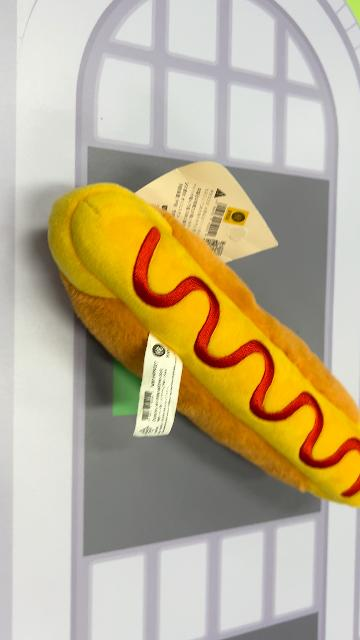hotdog: (47, 180, 359, 510)
